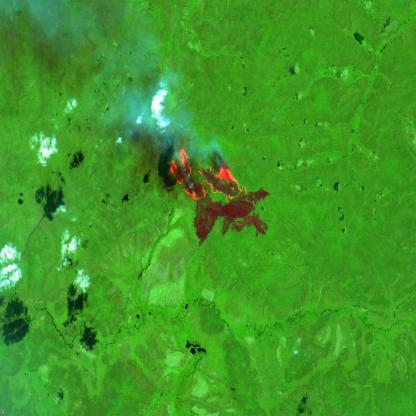fire: (166, 142, 249, 209)
